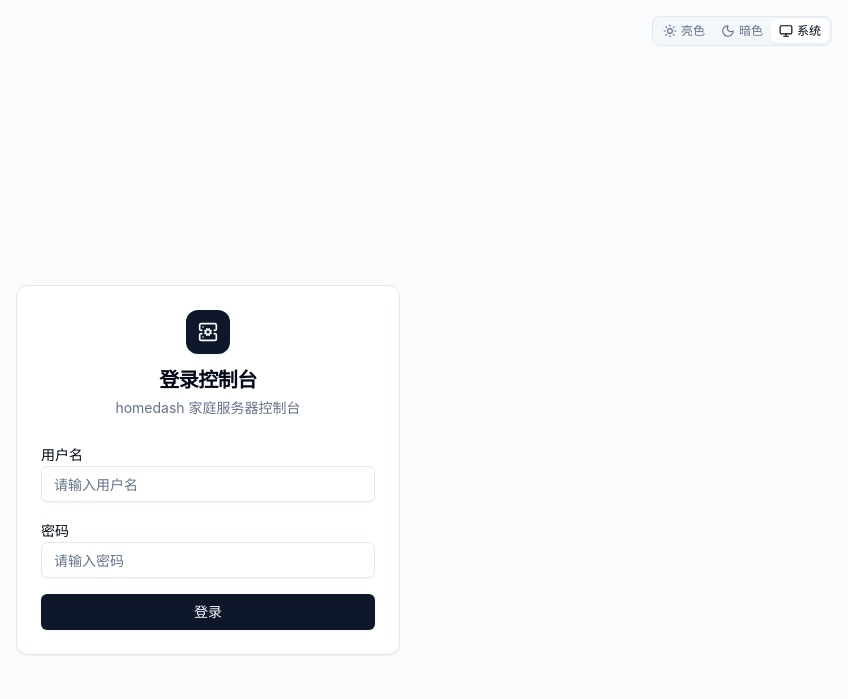
Test: homedash 前端认证与控制台 › 登录失败时显示“用户名或密码错误”提示
Expected: the button "登录" is shown, [41,594,375,630]
Type "admin" into the field labelled "用户名" at (208, 484), box [41,466,375,502]
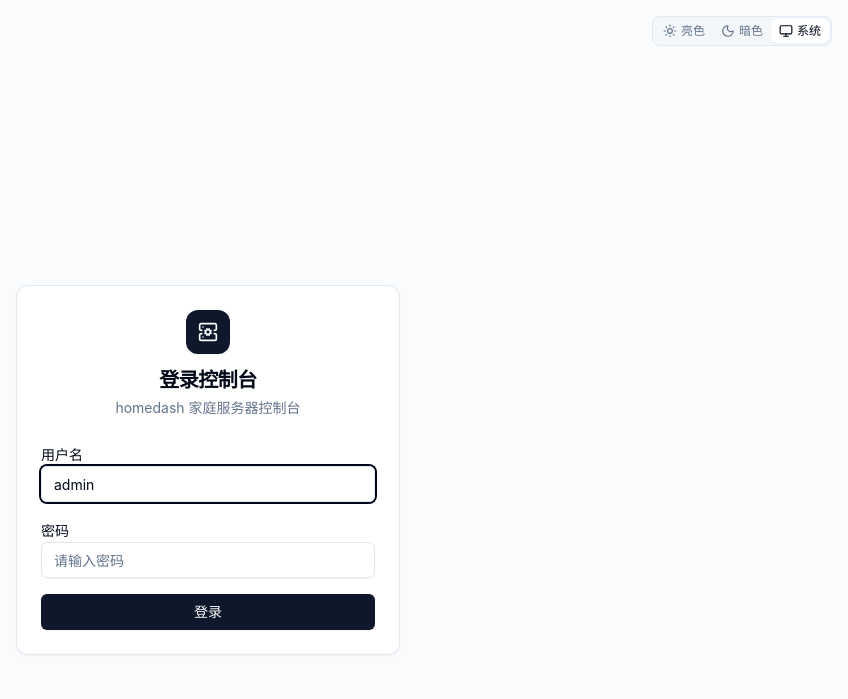
Type "wrong-password" into the password field labelled "密码" at (208, 560), box [41,542,375,578]
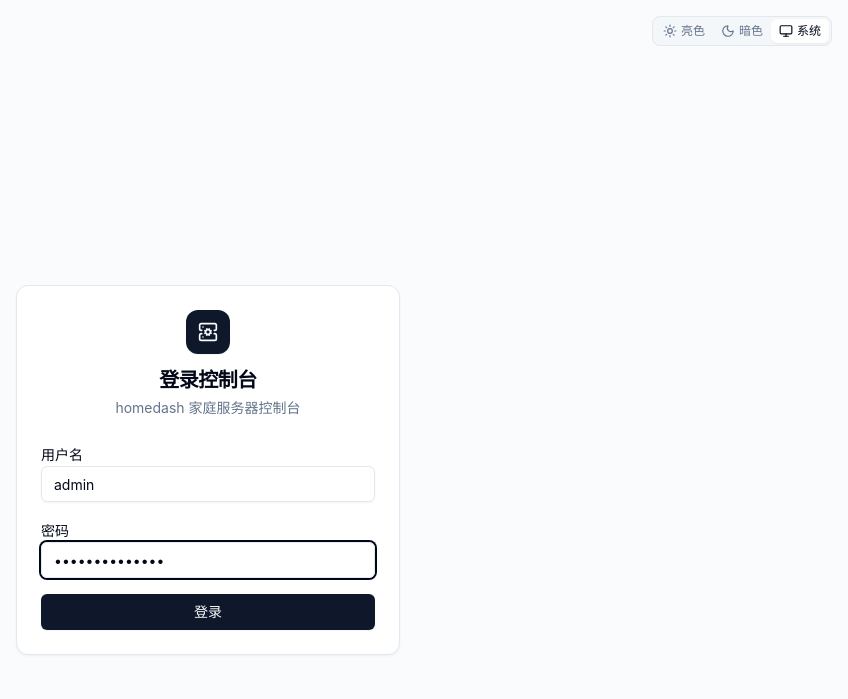
Click the button "登录" at (208, 612), box [41,594,375,630]
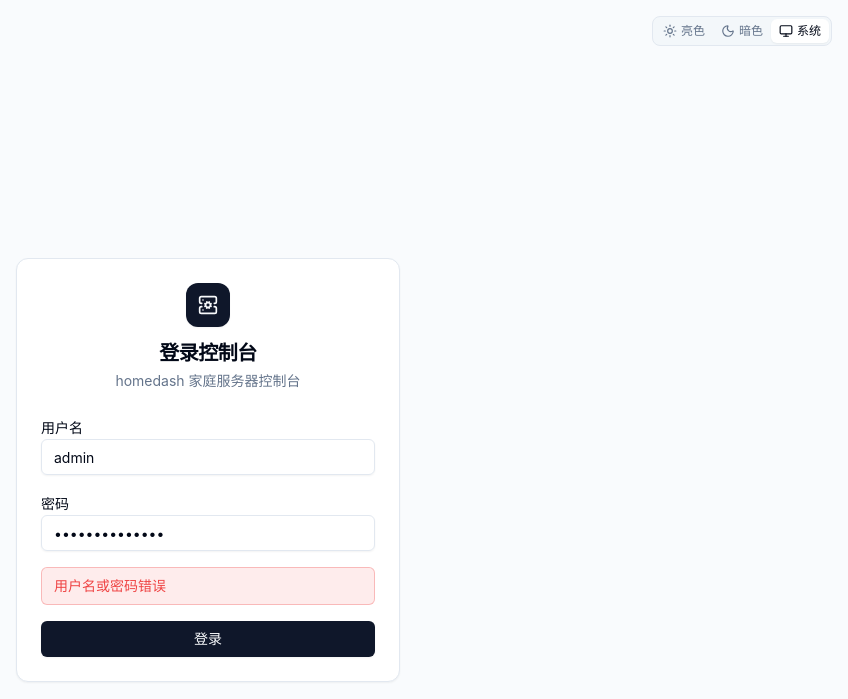
Expected: the message reads "用户名或密码错误", [54,577,166,594]
